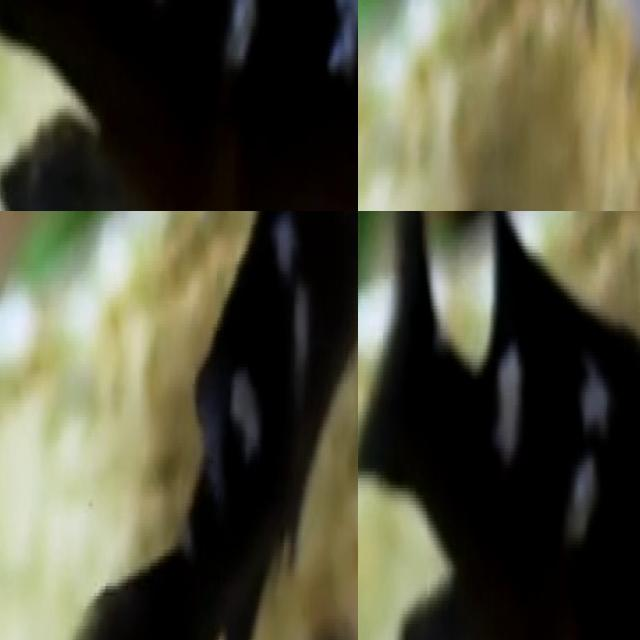fish: (63, 211, 358, 640), (0, 0, 358, 211)
